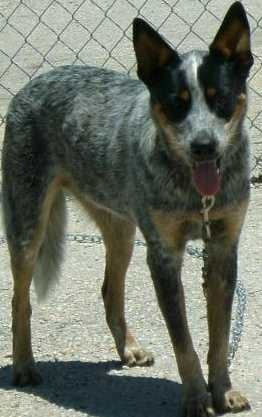dog: (0, 40, 262, 351)
